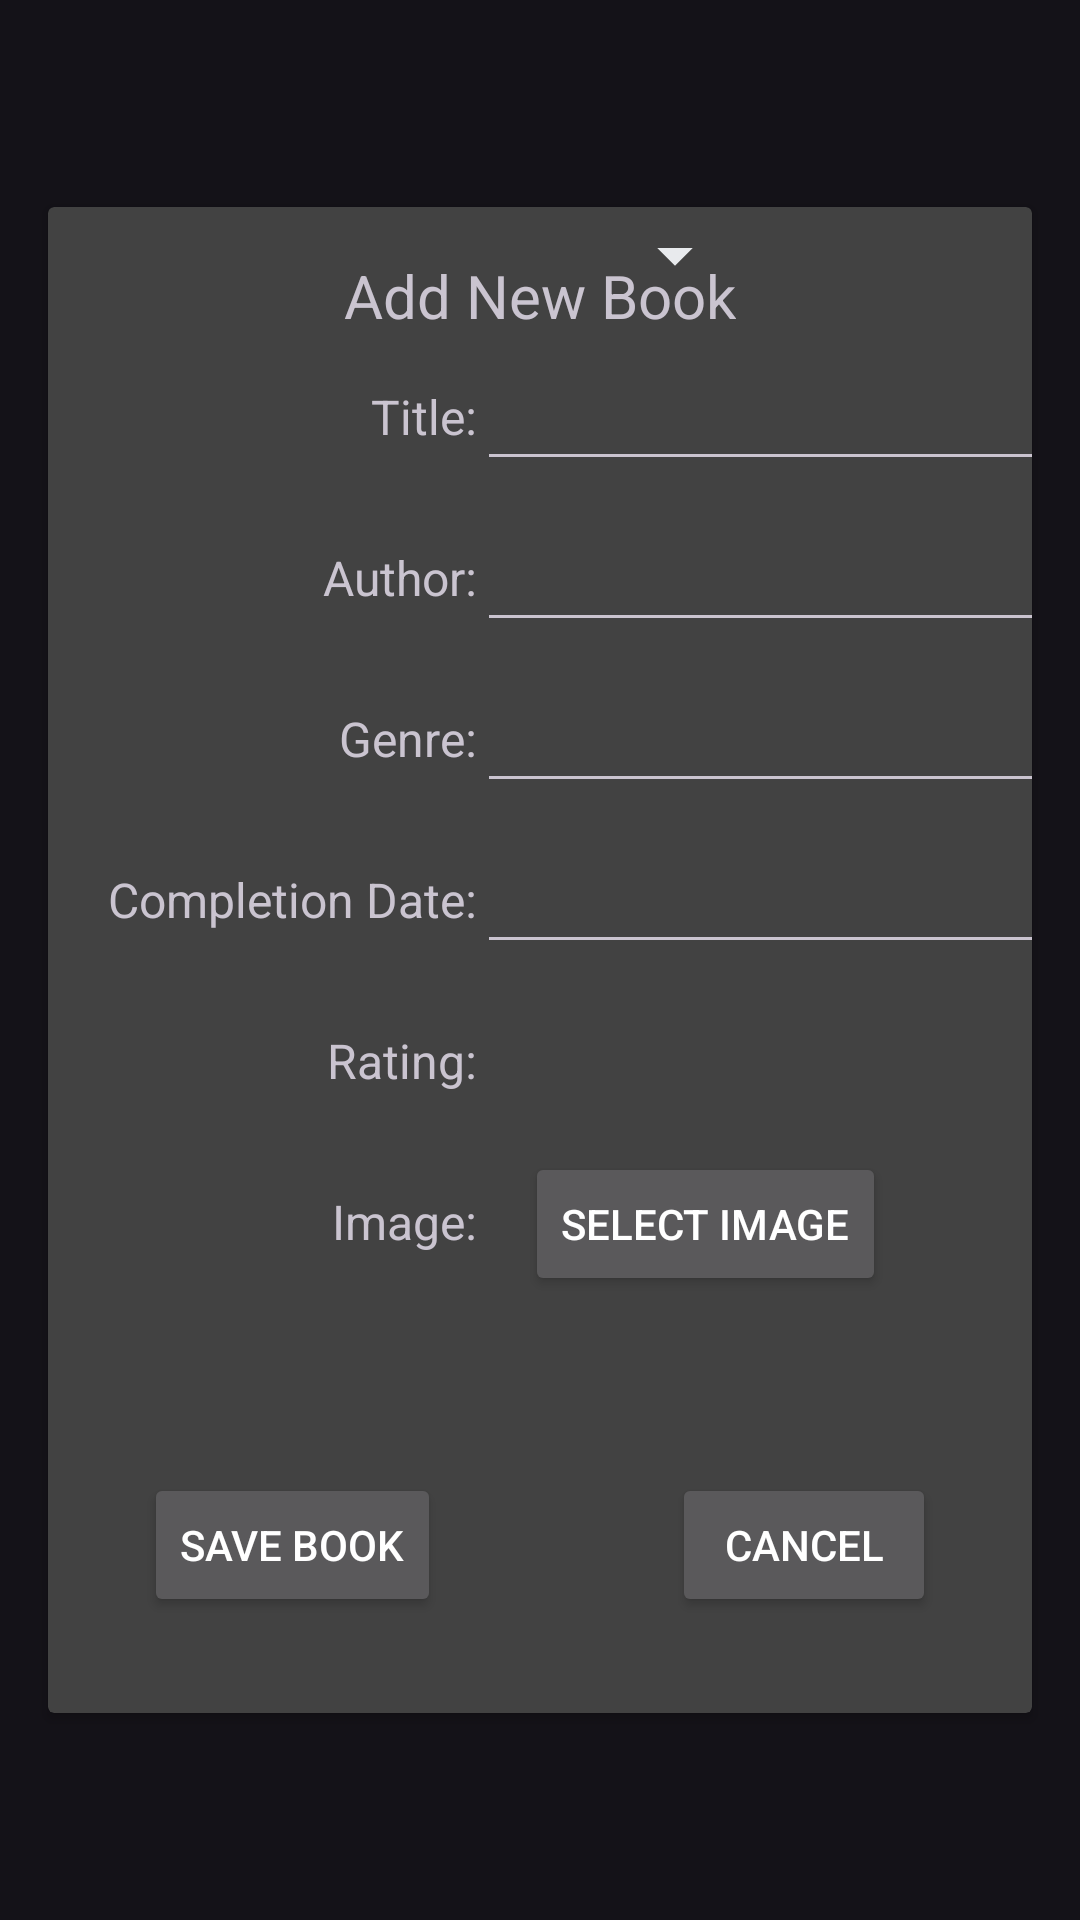

Icons on this 1080px×1920px Android screen, each with the point to tap as [x,y]:
down arrow: [675,257]
